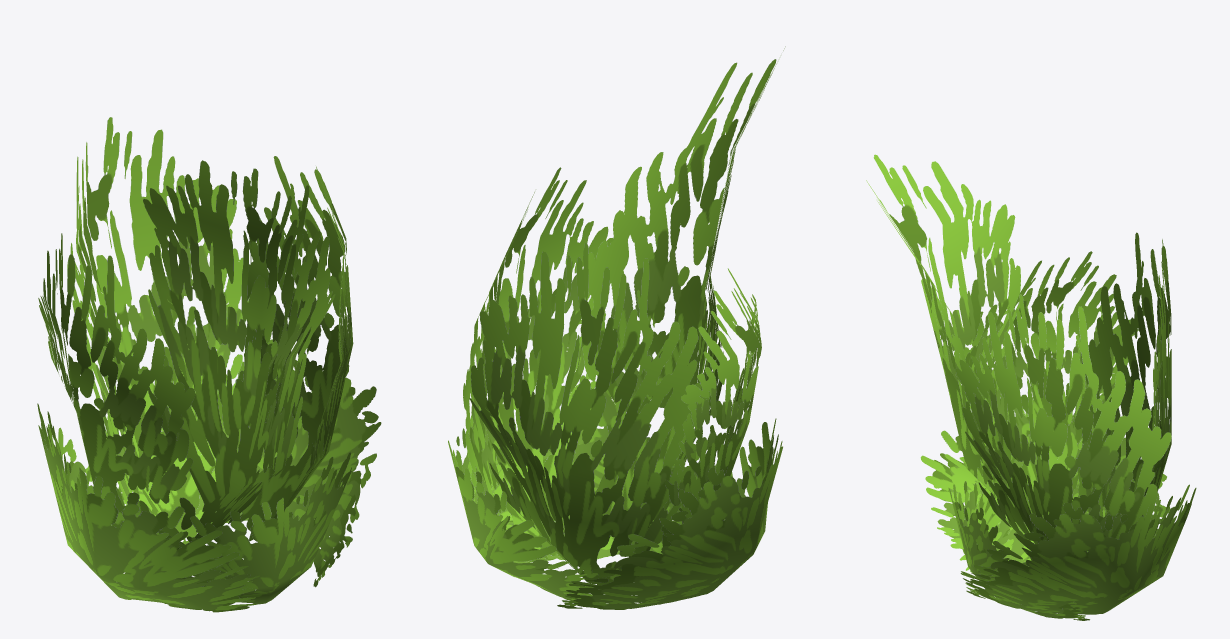
Rendered from bush.fbx.
3 views of the same model, side by side, from view 1: azimuth 30°, elevation 25°; view 2: azimuth 150°, elevation 25°; view 3: azimuth 270°, elevation 25° (orthographic). The views are drawn at different scales.
Parts seen in each view (by area): view 1: Cylinder.002; view 2: Cylinder.002; view 3: Cylinder.002.
Part boxes in pixels (x1,y1,x2,y2): Cylinder.002: [37, 117, 381, 612]; Cylinder.002: [448, 46, 785, 609]; Cylinder.002: [866, 154, 1196, 620].
Size of the model in its own units: 91.52 by 169 by 110.
Materials: 1 (1 with a texture image).
